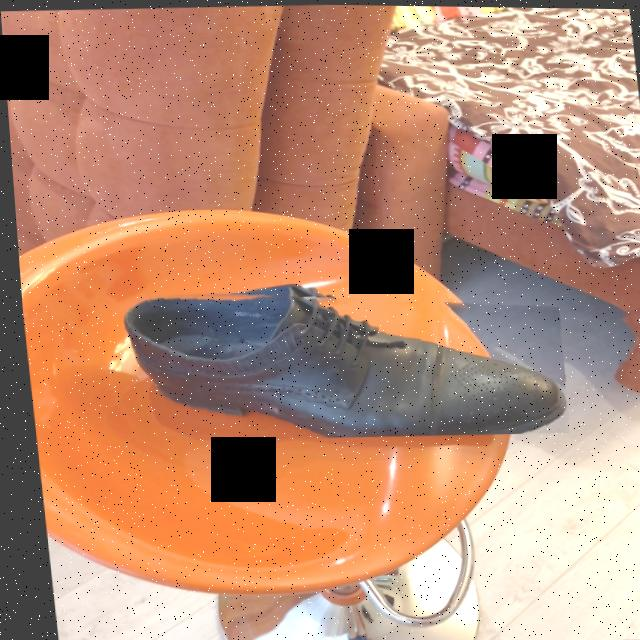shoe: (119, 293, 561, 436)
